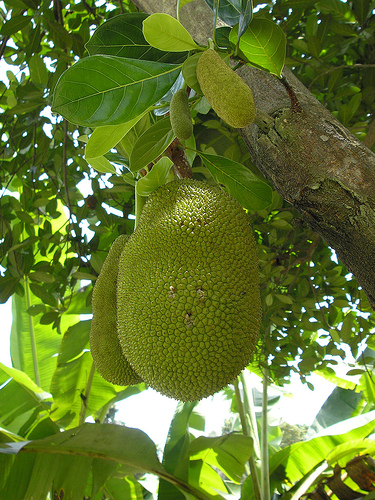jackfruit: (115, 178, 263, 405), (88, 233, 142, 388), (192, 41, 262, 133)
